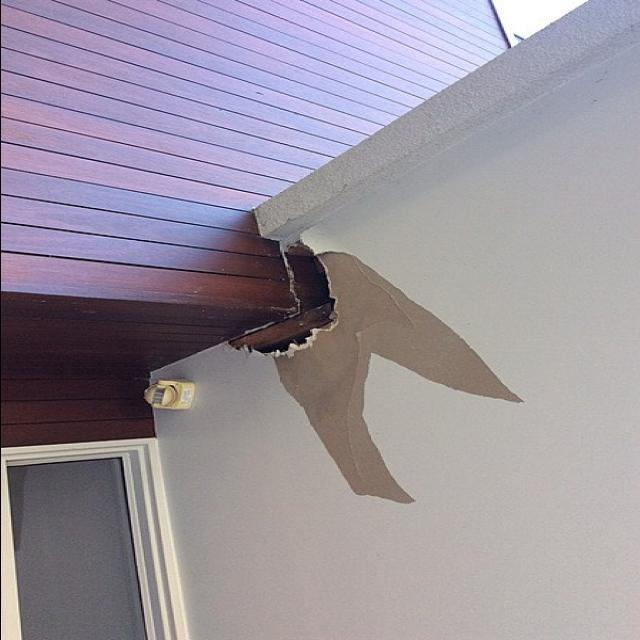Crack: (231, 243, 337, 355)
